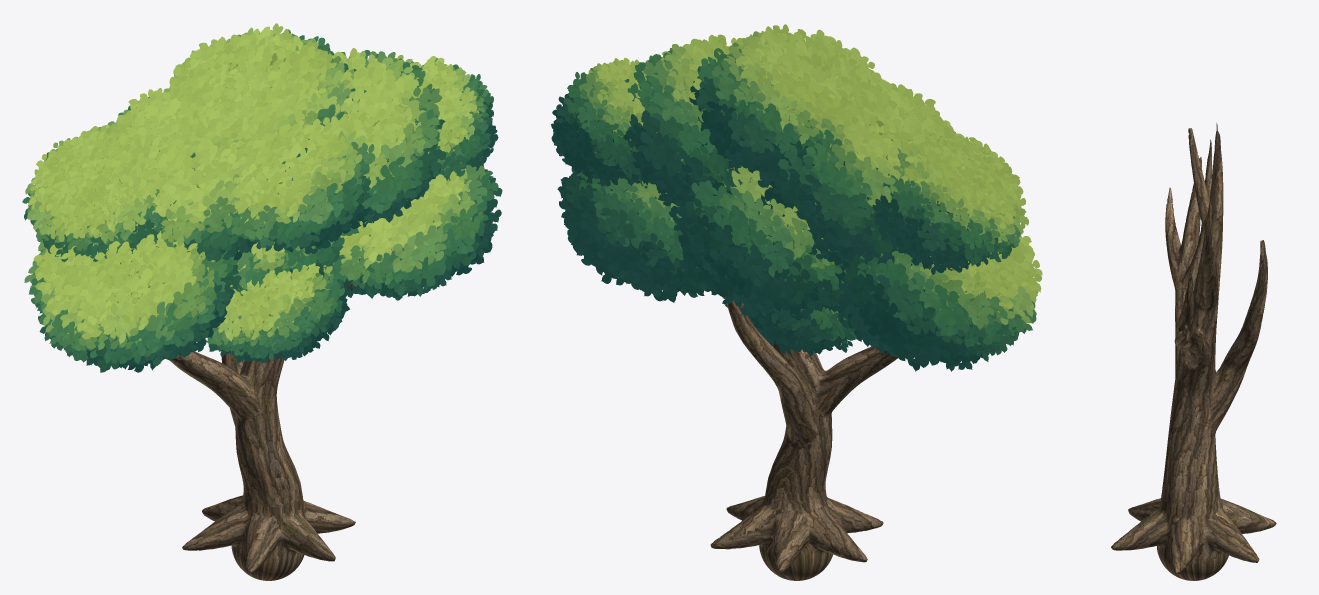
Rendered from tree_v05.glb.
The picture shows the model from 3 angles, left to right: view 1: azimuth 30°, elevation 25°; view 2: azimuth 150°, elevation 25°; view 3: azimuth 270°, elevation 25°; orthographic projection. The views are drawn at different scales.
Visible parts, largest first — view 1: Foliage_Cards, Trunk_UniqueUV; view 2: Foliage_Cards, Trunk_UniqueUV; view 3: Trunk_UniqueUV.
Part boxes in pixels (x1,y1,x2,y2): Foliage_Cards: (22, 23, 502, 372); Trunk_UniqueUV: (165, 248, 402, 580); Foliage_Cards: (551, 24, 1042, 371); Trunk_UniqueUV: (710, 288, 897, 580); Trunk_UniqueUV: (1111, 123, 1276, 580).
Bounding box in the file's own units: 4.54 × 4.96 × 1.83.
2 materials, 2 textured.
